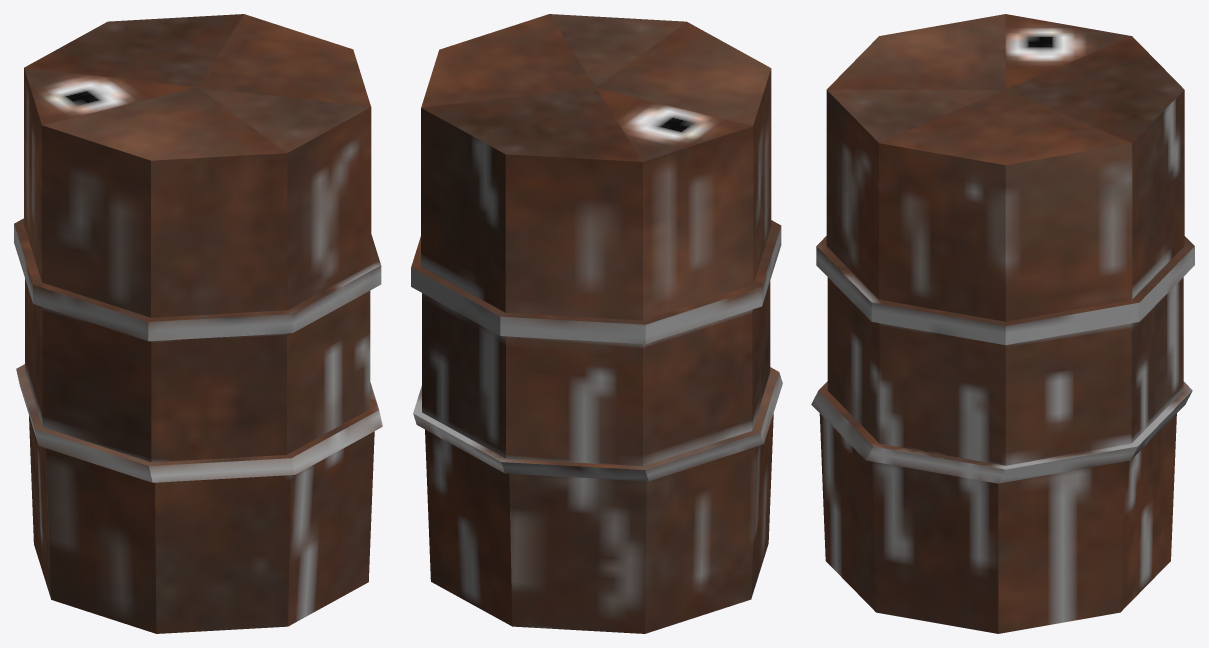
Rendered from barril.obj.
3 views of the same model, side by side, from view 1: azimuth 30°, elevation 25°; view 2: azimuth 150°, elevation 25°; view 3: azimuth 270°, elevation 25° (orthographic).
Visible parts, largest first — view 1: Circle; view 2: Circle; view 3: Circle.
Part boxes in pixels (box(x1,y1,x2,y2)): Circle: box(14, 14, 382, 633); Circle: box(411, 14, 782, 633); Circle: box(811, 14, 1194, 633).
Size of the model in its own units: 2.19 by 3.01 by 2.22.
1 material, 1 textured.
